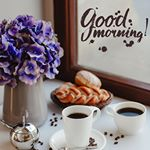cups: (58, 103, 103, 149), (104, 100, 148, 138)
